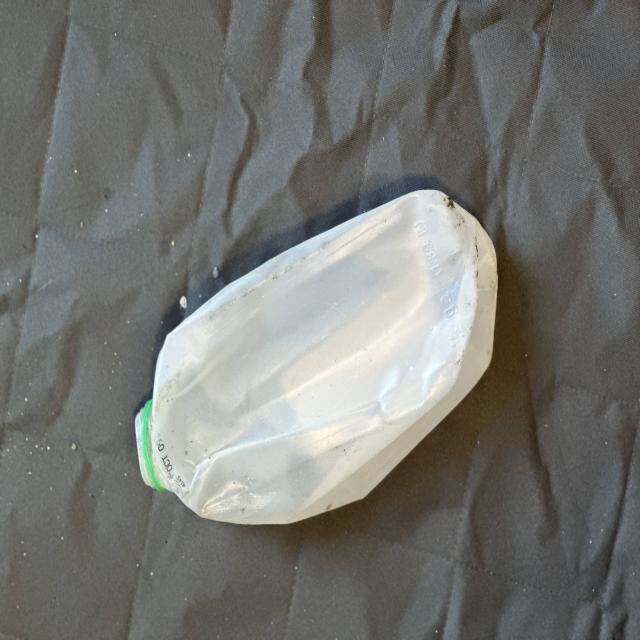milk-jug: (134, 187, 498, 540)
